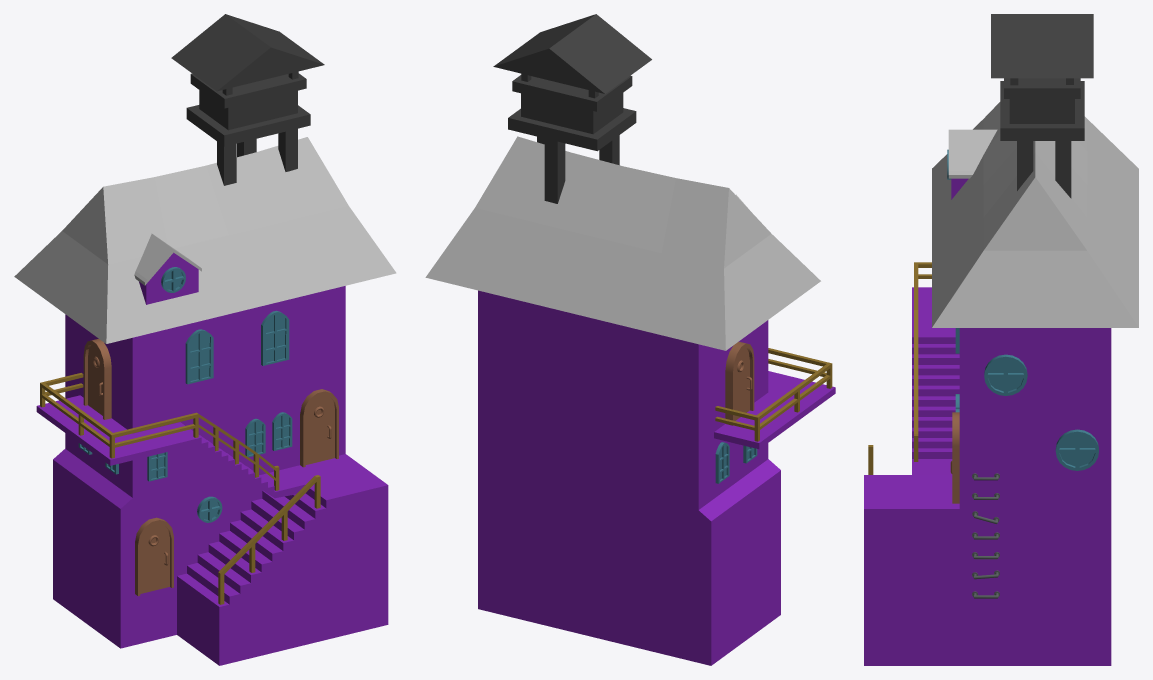
The model's file is Casita3.fbx.
3 views of the same model, side by side, from view 1: azimuth 30°, elevation 25°; view 2: azimuth 150°, elevation 25°; view 3: azimuth 270°, elevation 25° (orthographic). The views are drawn at different scales.
Visible parts, largest first — view 1: polySurface23; view 2: polySurface23; view 3: polySurface23.
Part boxes in pixels (x1,y1,x2,y2): polySurface23: [14, 14, 396, 665]; polySurface23: [425, 14, 835, 665]; polySurface23: [864, 14, 1138, 665].
Bounding box in the file's own units: 17.65 × 31.44 × 12.66.
